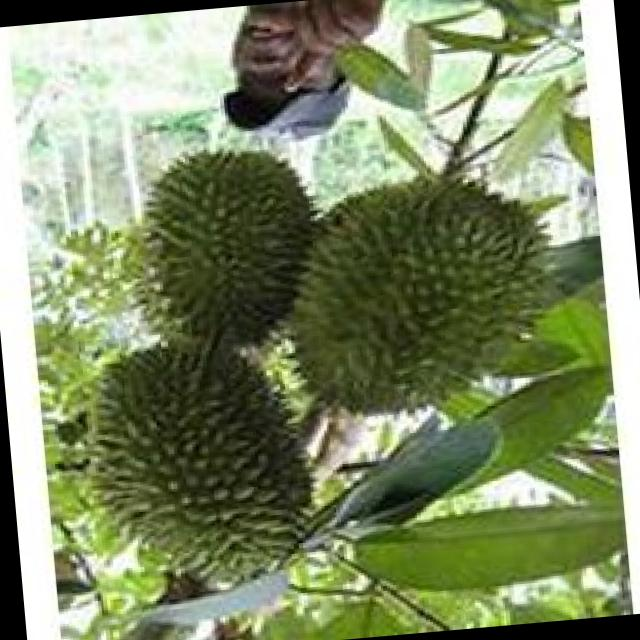fruit: (244, 132, 581, 468), (57, 298, 345, 624), (102, 114, 342, 377)
